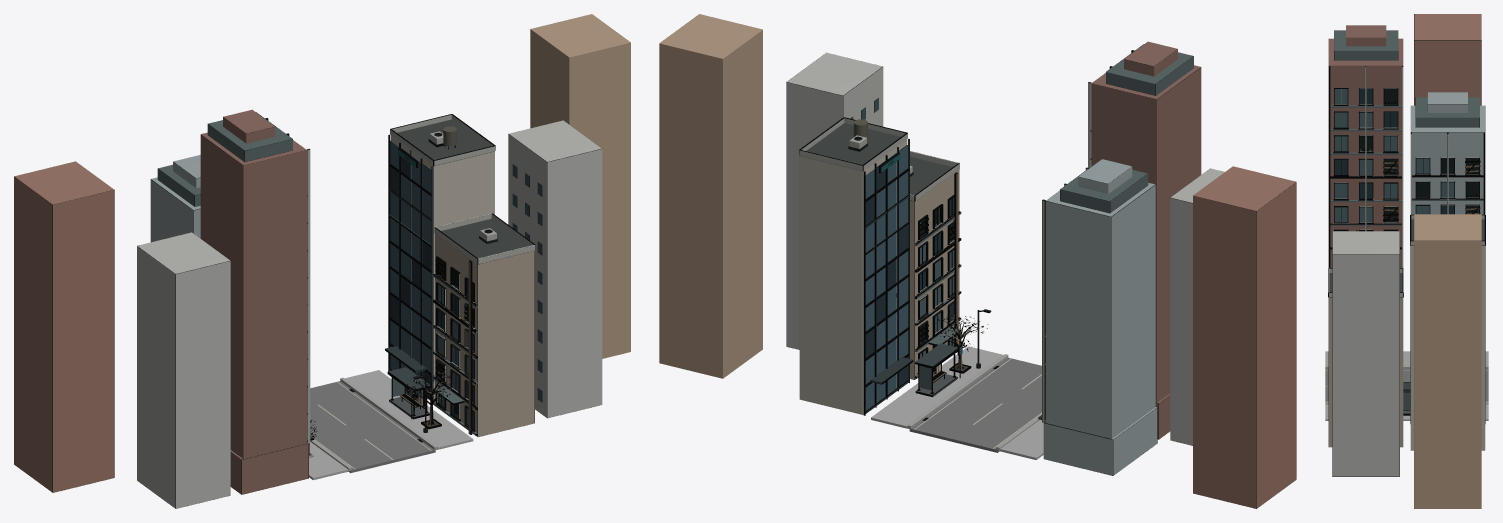
File: city_hd_18.glb
3 views of the same model, side by side, from view 1: azimuth 30°, elevation 25°; view 2: azimuth 150°, elevation 25°; view 3: azimuth 270°, elevation 25° (orthographic). The views are drawn at different scales.
Parts seen in each view (by area): view 1: Background city building.001, CITY_PBR_asphalt, CITY_PBR_pavement, CITY_curb; view 2: Background city building.001, CITY_PBR_asphalt, CITY_PBR_pavement, CITY_curb; view 3: Background city building.001, CITY_PBR_pavement, CITY_PBR_asphalt.
Boxes of the visible parts, left/top/right/bottom form: Background city building.001: left=14, top=14, right=630, bottom=508; CITY_PBR_asphalt: left=310, top=381, right=435, bottom=473; CITY_PBR_pavement: left=309, top=370, right=473, bottom=480; CITY_curb: left=310, top=377, right=437, bottom=471; Background city building.001: left=659, top=14, right=1296, bottom=508; CITY_PBR_asphalt: left=909, top=357, right=1041, bottom=452; CITY_PBR_pavement: left=871, top=346, right=1043, bottom=459; CITY_curb: left=907, top=354, right=1041, bottom=450; Background city building.001: left=1328, top=14, right=1485, bottom=508; CITY_PBR_pavement: left=1325, top=351, right=1488, bottom=420; CITY_PBR_asphalt: left=1325, top=369, right=1488, bottom=401.
Bounding box in the file's own units: 56.65 × 33.09 × 16.
10 materials, 1 textured.
